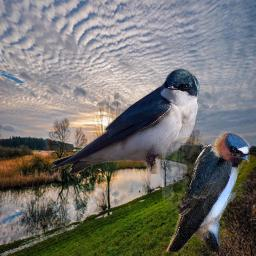Swallow: (49, 68, 200, 174), (162, 131, 250, 252)
